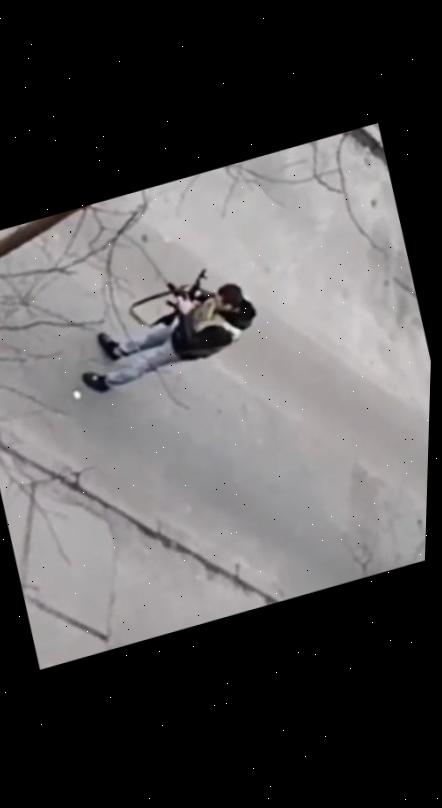person: (66, 256, 267, 399)
